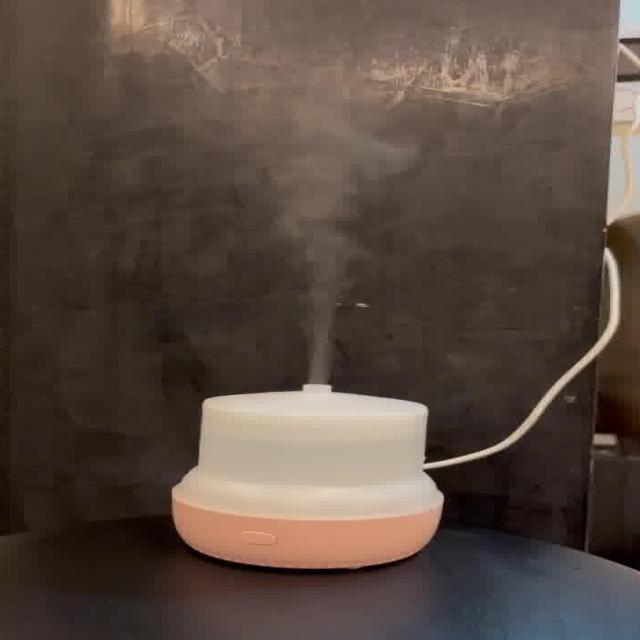fire: (225, 114, 420, 381)
